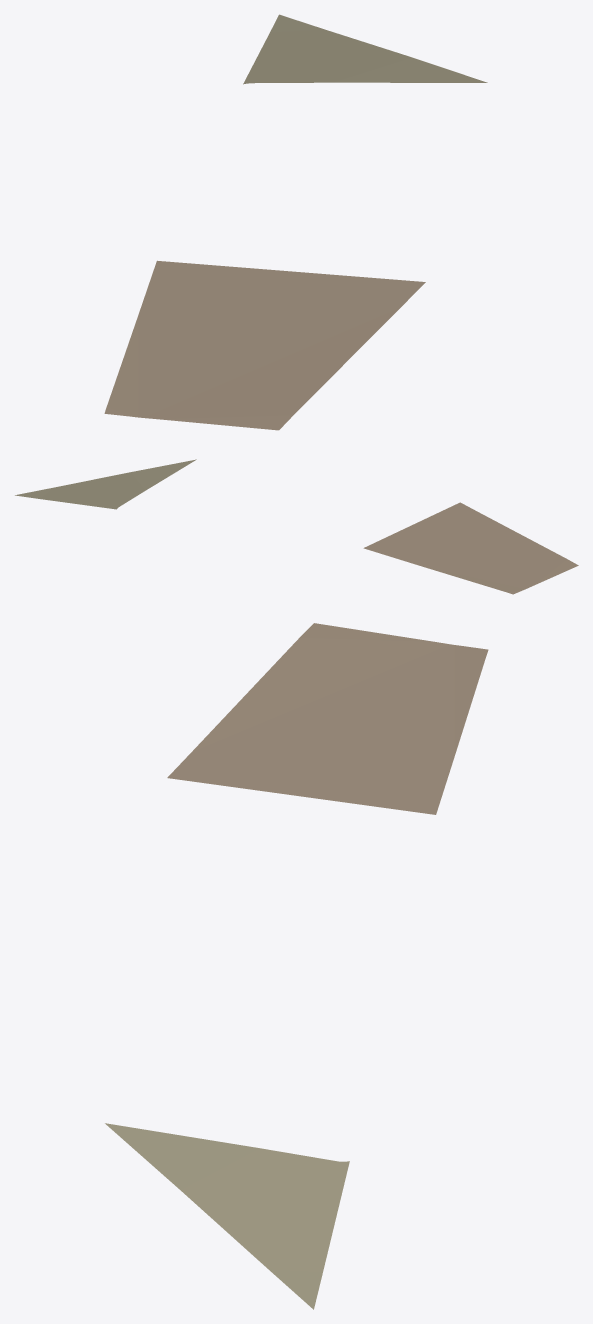
Rendered from farm_2_17_soil.glb.
3 views of the same model, one above another, from view 1: azimuth 90°, elevation 25°; view 2: azimuth 150°, elevation 25°; view 3: azimuth 270°, elevation 25° (orthographic). The views are drawn at different scales.
Visible parts, largest first — view 1: geometry_0; view 2: geometry_0; view 3: geometry_0.
Part boxes in pixels (x1=…): geometry_0: x1=104, y1=14, x2=487, y2=430; geometry_0: x1=15, y1=459, x2=578, y2=594; geometry_0: x1=105, y1=623, x2=488, y2=1309.
Size of the model in its own units: 260 by 29.84 by 76.59.
